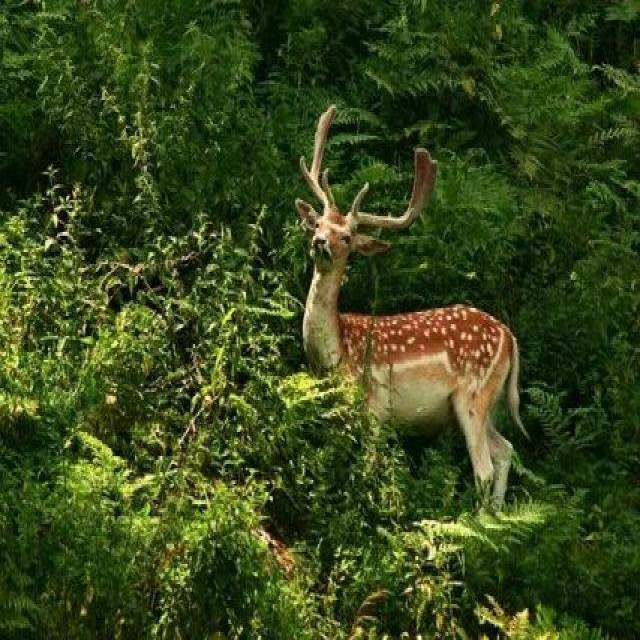deer: (262, 113, 528, 463)
